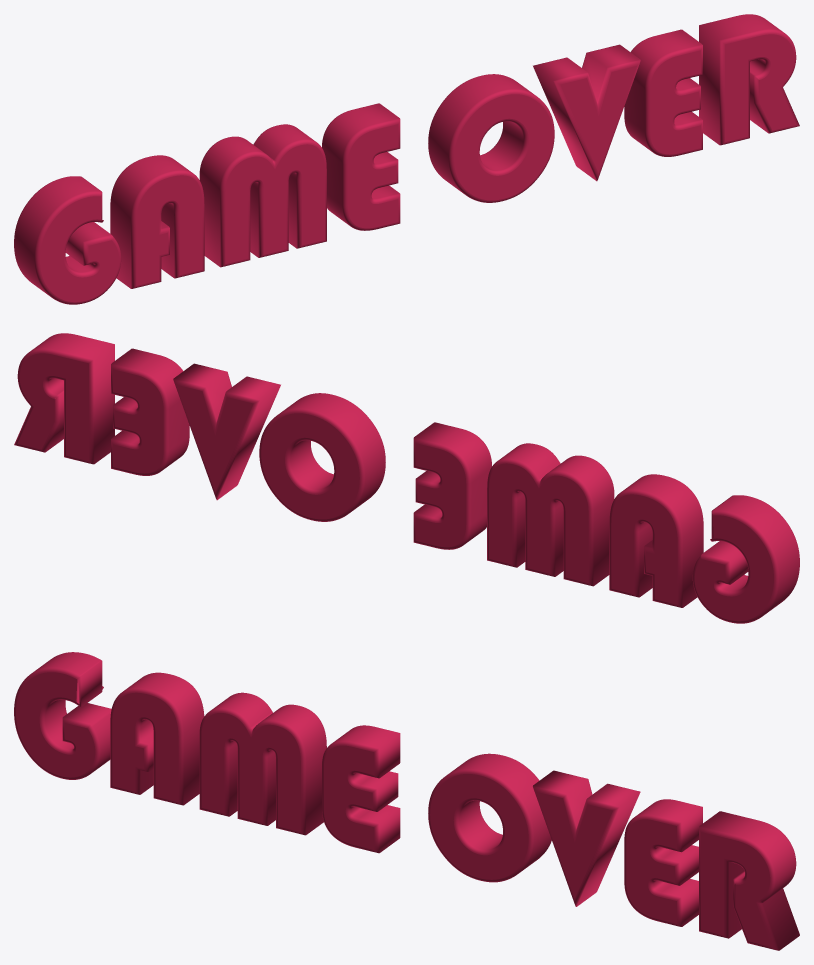
The model's file is gameOver.obj.
3 renders of one model, top to bottom at view 1: azimuth 30°, elevation 25°; view 2: azimuth 150°, elevation 25°; view 3: azimuth 330°, elevation 25°, orthographic.
Parts seen in each view (by area): view 1: テキスト; view 2: テキスト; view 3: テキスト.
Boxes of the visible parts, box(x1,y1,x2,y2) form: テキスト: box(14, 14, 799, 304); テキスト: box(14, 333, 799, 623); テキスト: box(14, 652, 799, 950).
Bounding box in the file's own units: 4.42 × 0.6277 × 0.24.
